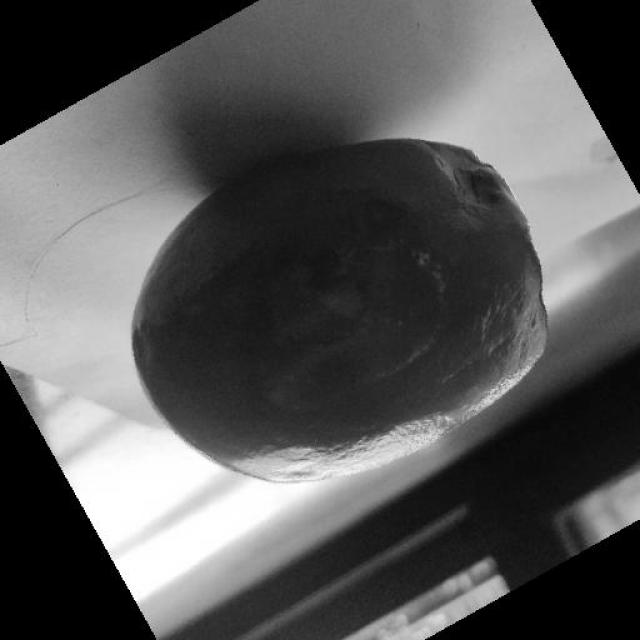Stale_tomato: (135, 144, 542, 432)
